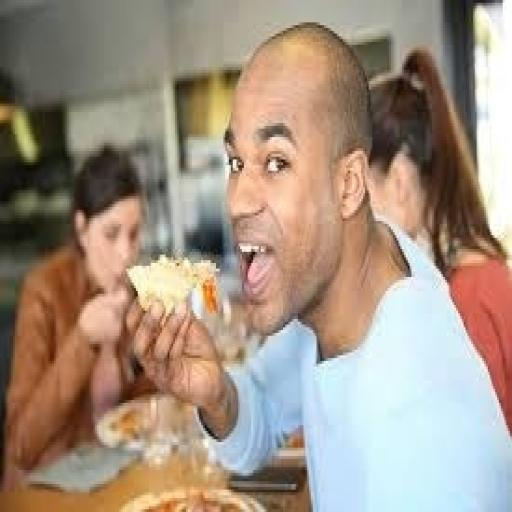eating: (123, 20, 510, 506)
